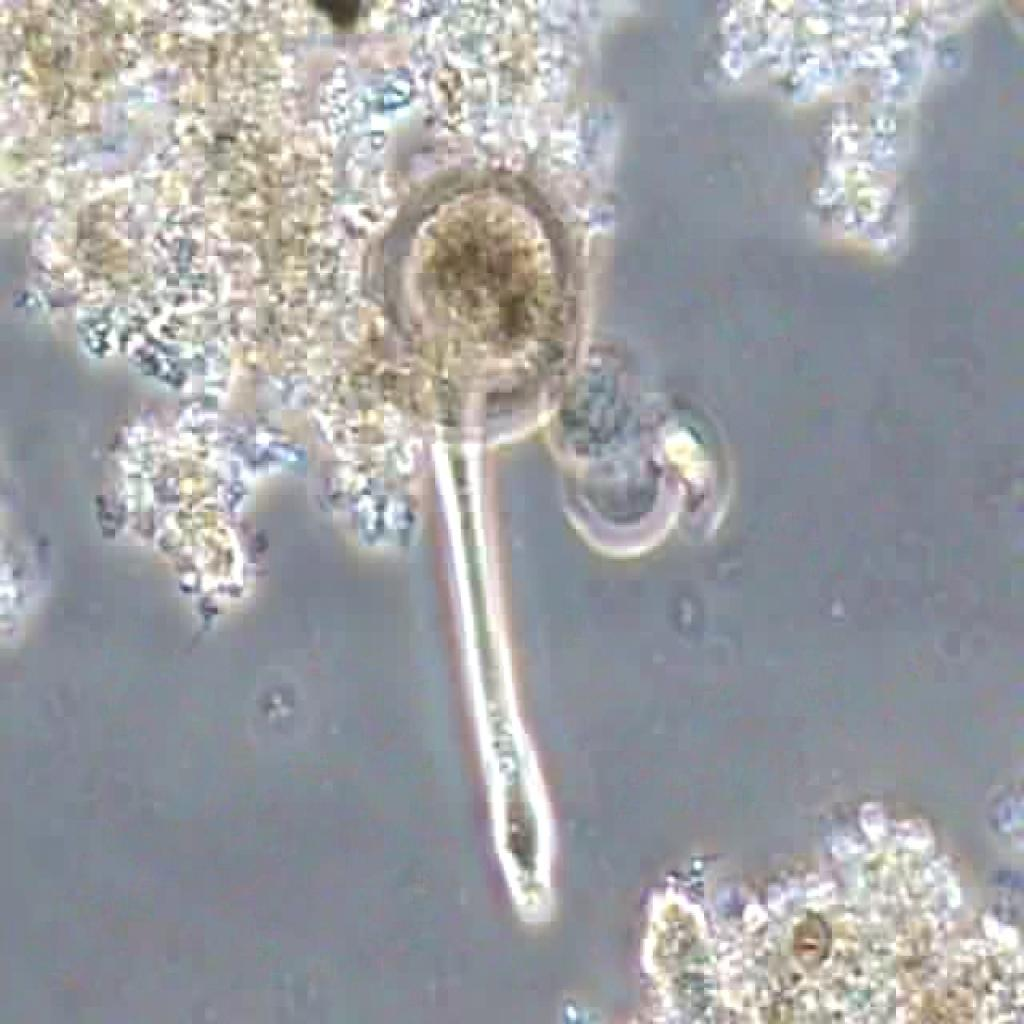Arcella: (350, 159, 599, 920)
